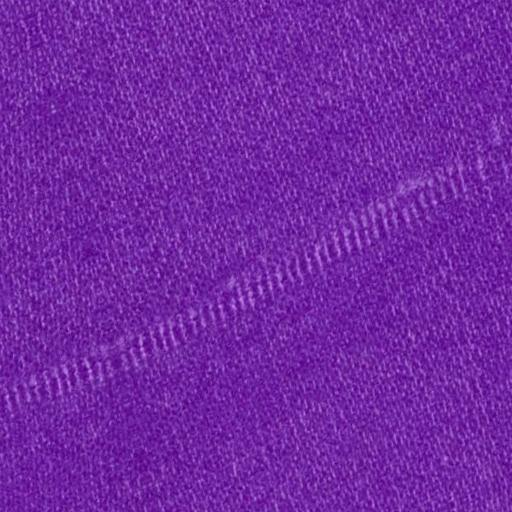slub: (1, 162, 490, 419)
